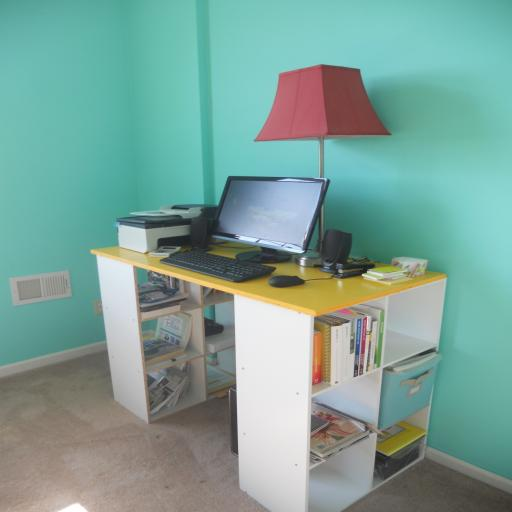desk: (91, 239, 446, 512)
wall: (207, 0, 512, 493), (0, 0, 214, 380)
